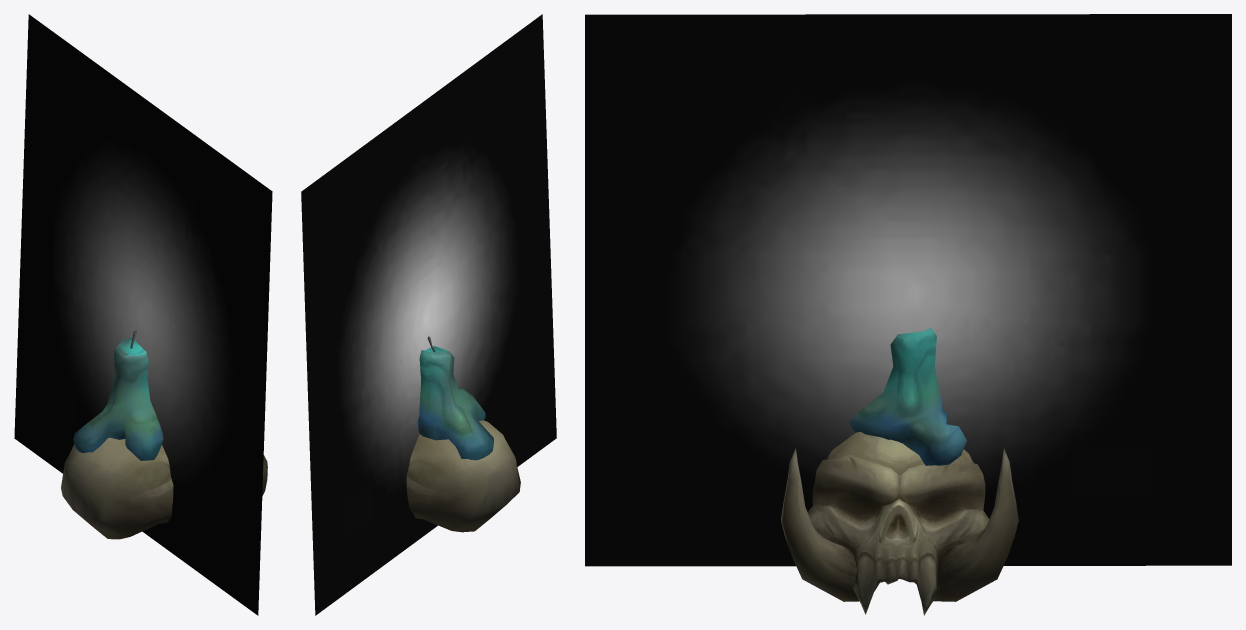
The picture shows the model from 3 angles, left to right: view 1: azimuth 30°, elevation 25°; view 2: azimuth 150°, elevation 25°; view 3: azimuth 270°, elevation 25°; orthographic projection. The views are drawn at different scales.
Size of the model in its own units: 0.7446 by 1.87 by 1.94.
3 materials, 3 textured.
